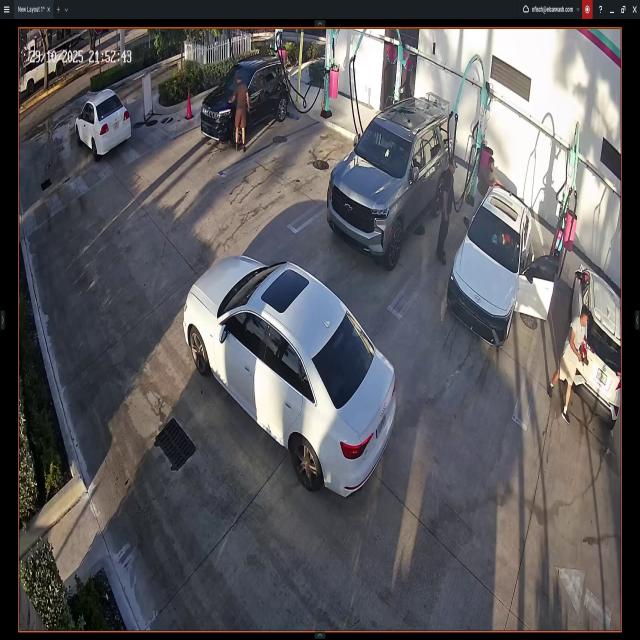Car: (182, 254, 396, 497), (327, 94, 450, 256), (447, 184, 556, 348), (570, 267, 620, 428), (201, 56, 288, 146), (76, 88, 132, 158)
